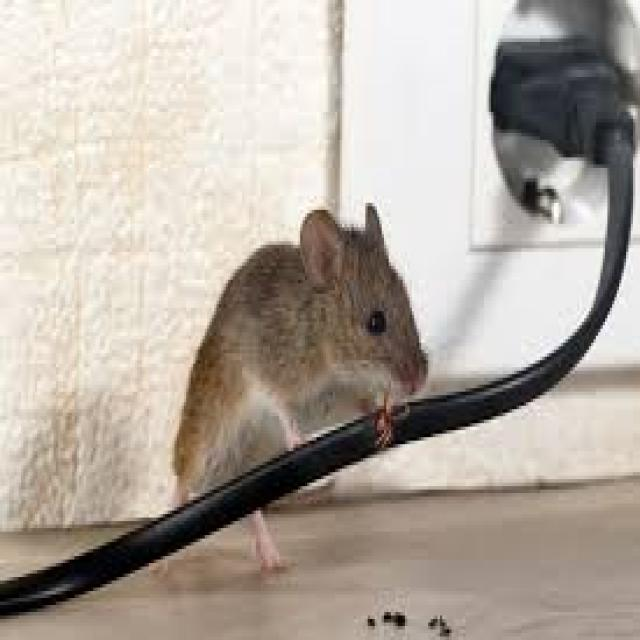rat: (165, 200, 428, 574)
